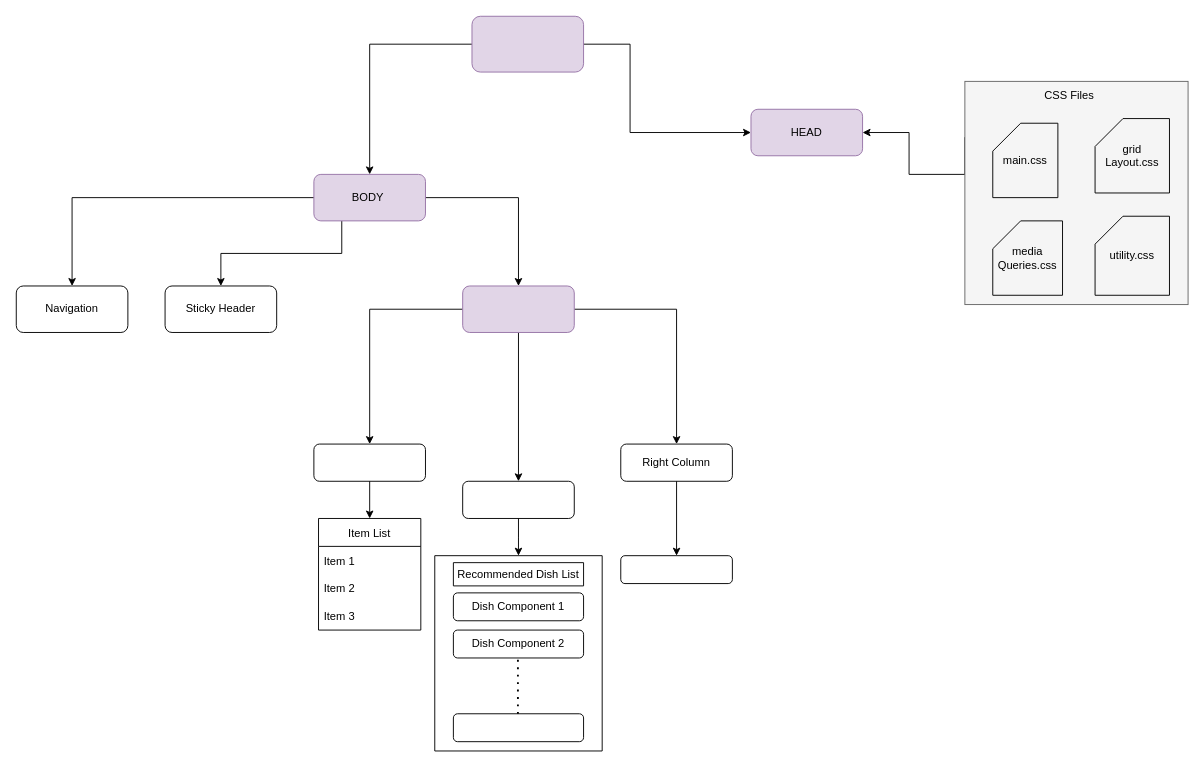
Some shapes in this 1204 by 767 pixel diagram are drawn without their labels. The box of each missing label's shape, as (x1, y1, x2, y2) in pixels:
Cart: (620, 555, 732, 584)
Dish Component n: (452, 713, 584, 742)
HTML: (471, 15, 584, 72)
Left column: (313, 443, 425, 481)
Main Section: (462, 285, 574, 332)
Mid Column: (462, 480, 574, 518)
